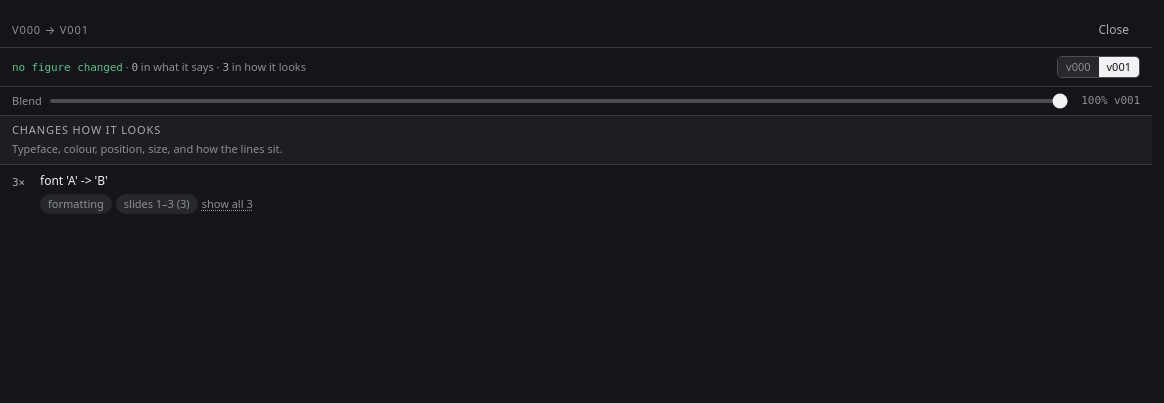
Test: the same change in many places › opens to the individual differences on request
Click the button "show all 3".
click(227, 204)  # box [202,196,253,212]
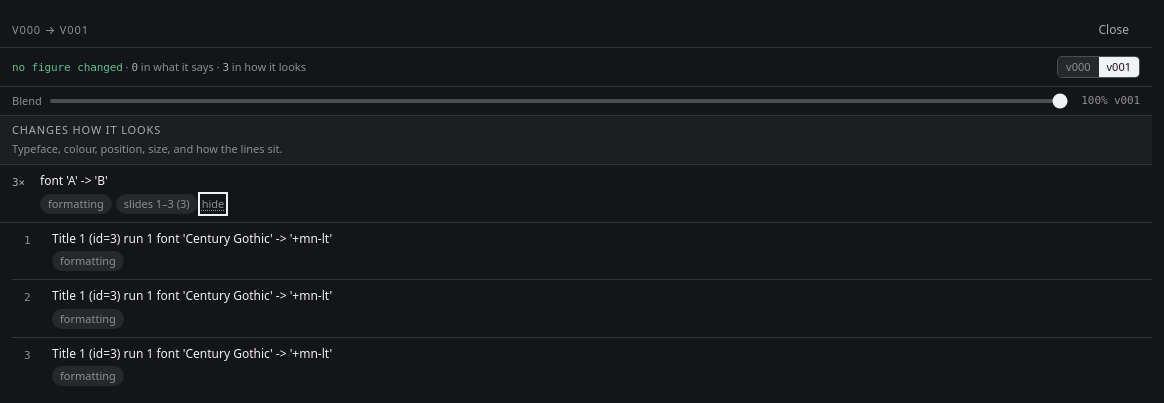
Check: the text "Title 1 (id=3) run 1 font 'Century Gothic' -> '+mn-lt'" is shown 3 times, box [52,230,332,247]; [52,287,332,304]; [52,345,332,362]
